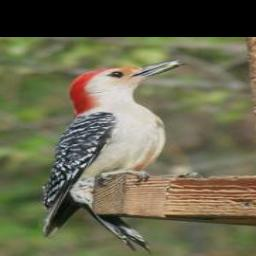Woodpecker: (44, 58, 191, 254)
